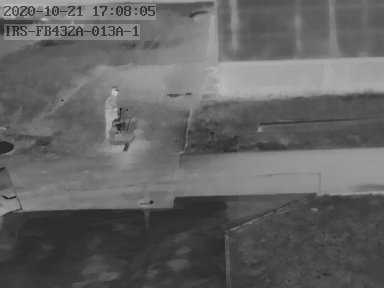person: (101, 84, 120, 144)
